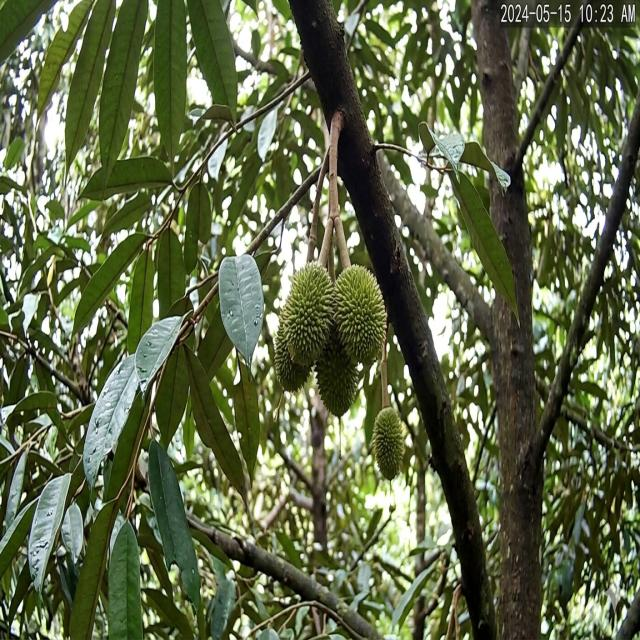immature: (279, 264, 335, 371), (332, 263, 386, 365), (314, 326, 362, 416), (370, 405, 406, 480), (274, 330, 312, 396)
